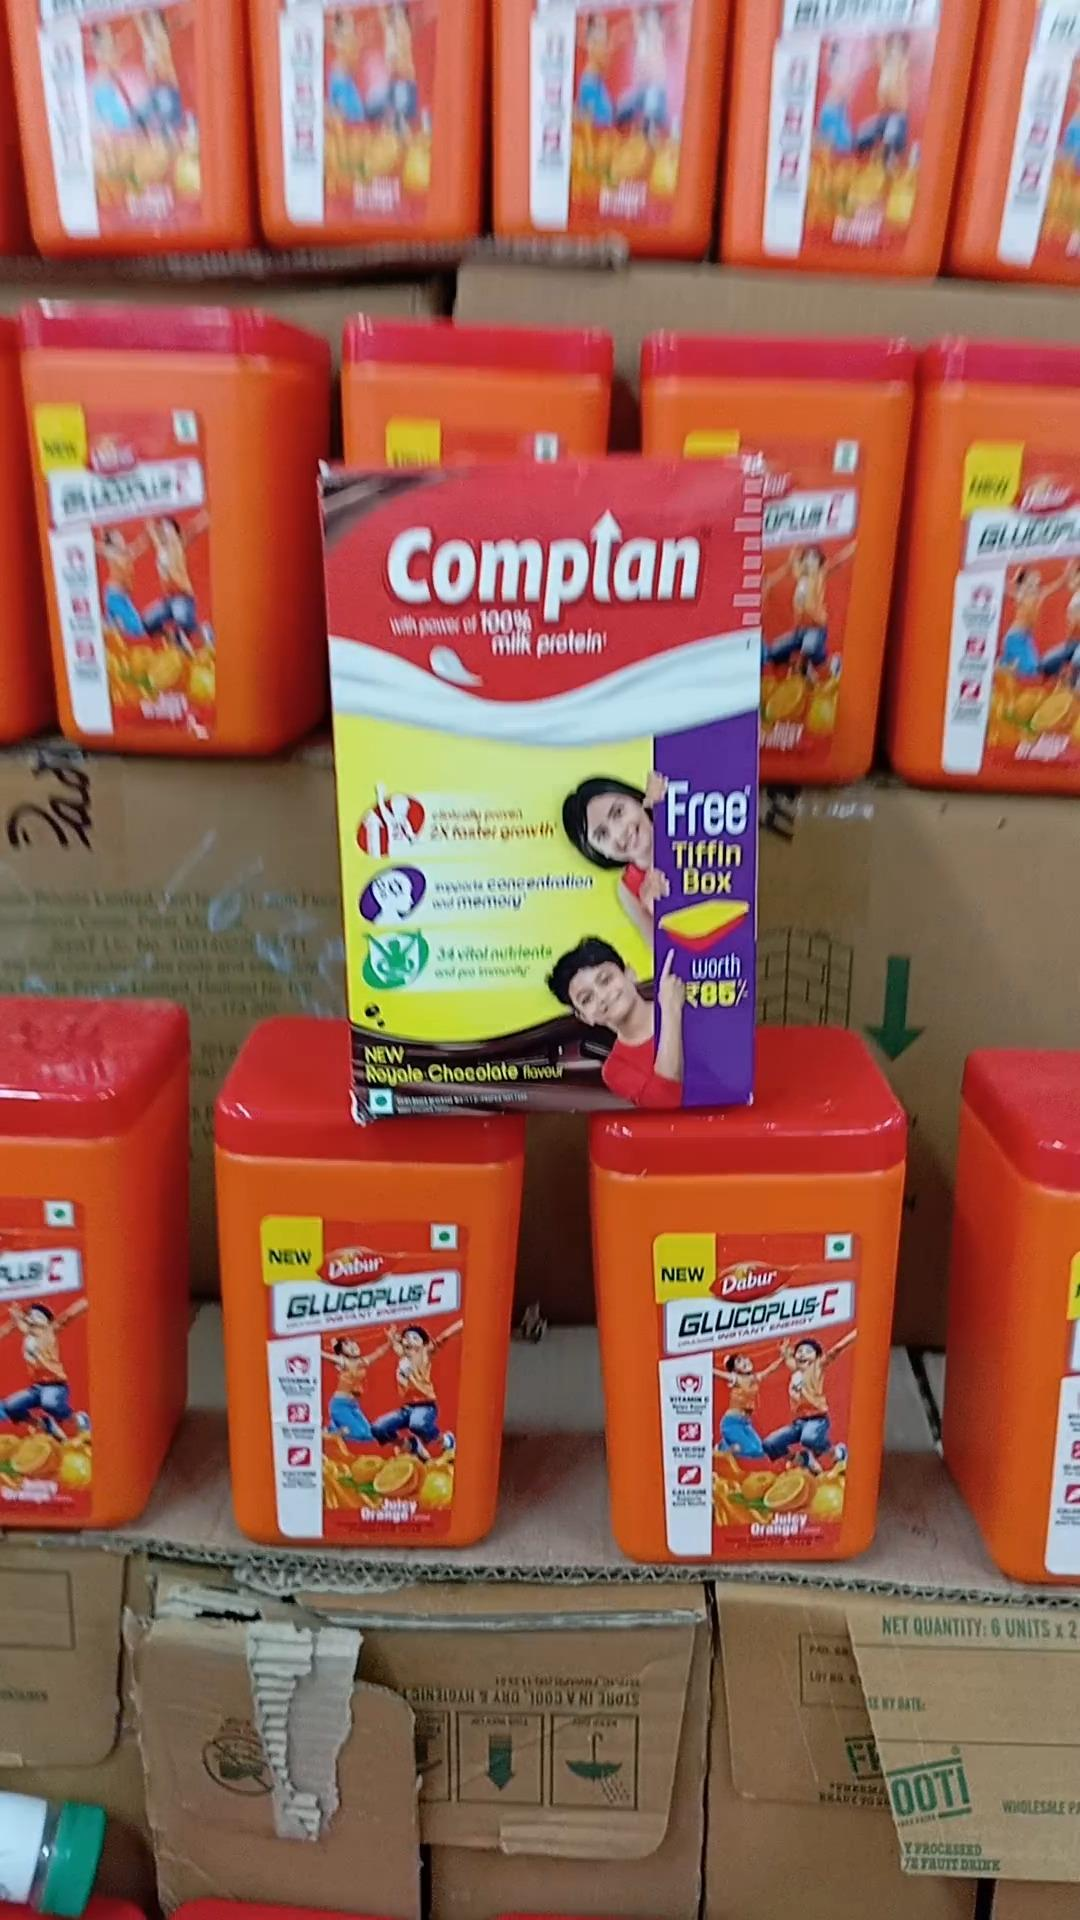COMPLAN_CHOCOLATE_500_GMS_PACK: (335, 467, 753, 1109)
